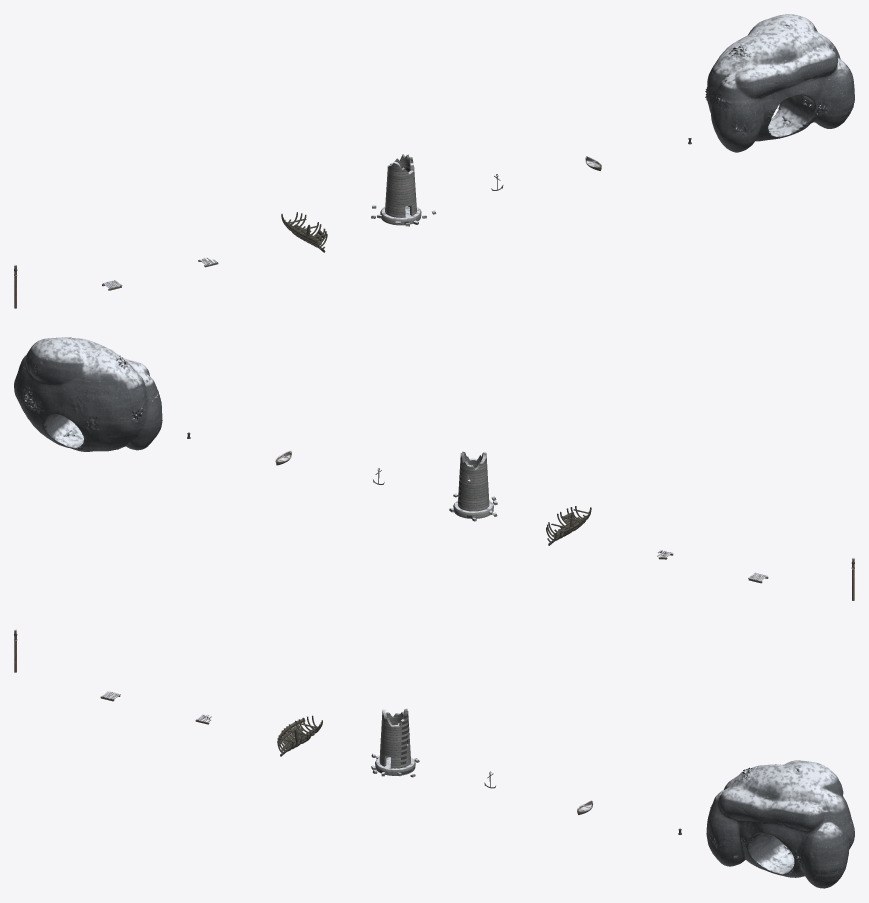
File: Harbor.gltf
The picture shows the model from 3 angles, top to bottom: view 1: azimuth 30°, elevation 25°; view 2: azimuth 150°, elevation 25°; view 3: azimuth 330°, elevation 25°; orthographic projection.
Parts seen in each view (by area): view 1: CaveArch_A, Lighthouse_A, Hull_A; view 2: CaveArch_A, Lighthouse_A, Hull_A; view 3: CaveArch_A, Lighthouse_A, Hull_A.
Part boxes in pixels (x1,y1,x2,y2): CaveArch_A: [705, 14, 854, 152]; Lighthouse_A: [371, 154, 436, 226]; Hull_A: [281, 212, 327, 252]; CaveArch_A: [14, 337, 162, 451]; Lighthouse_A: [449, 451, 497, 521]; Hull_A: [546, 506, 591, 545]; CaveArch_A: [706, 760, 854, 888]; Lighthouse_A: [371, 708, 419, 777]; Hull_A: [277, 715, 322, 756].
Size of the model in its own units: 122 by 15.41 by 13.19.
Materials: 5 (5 with a texture image).
